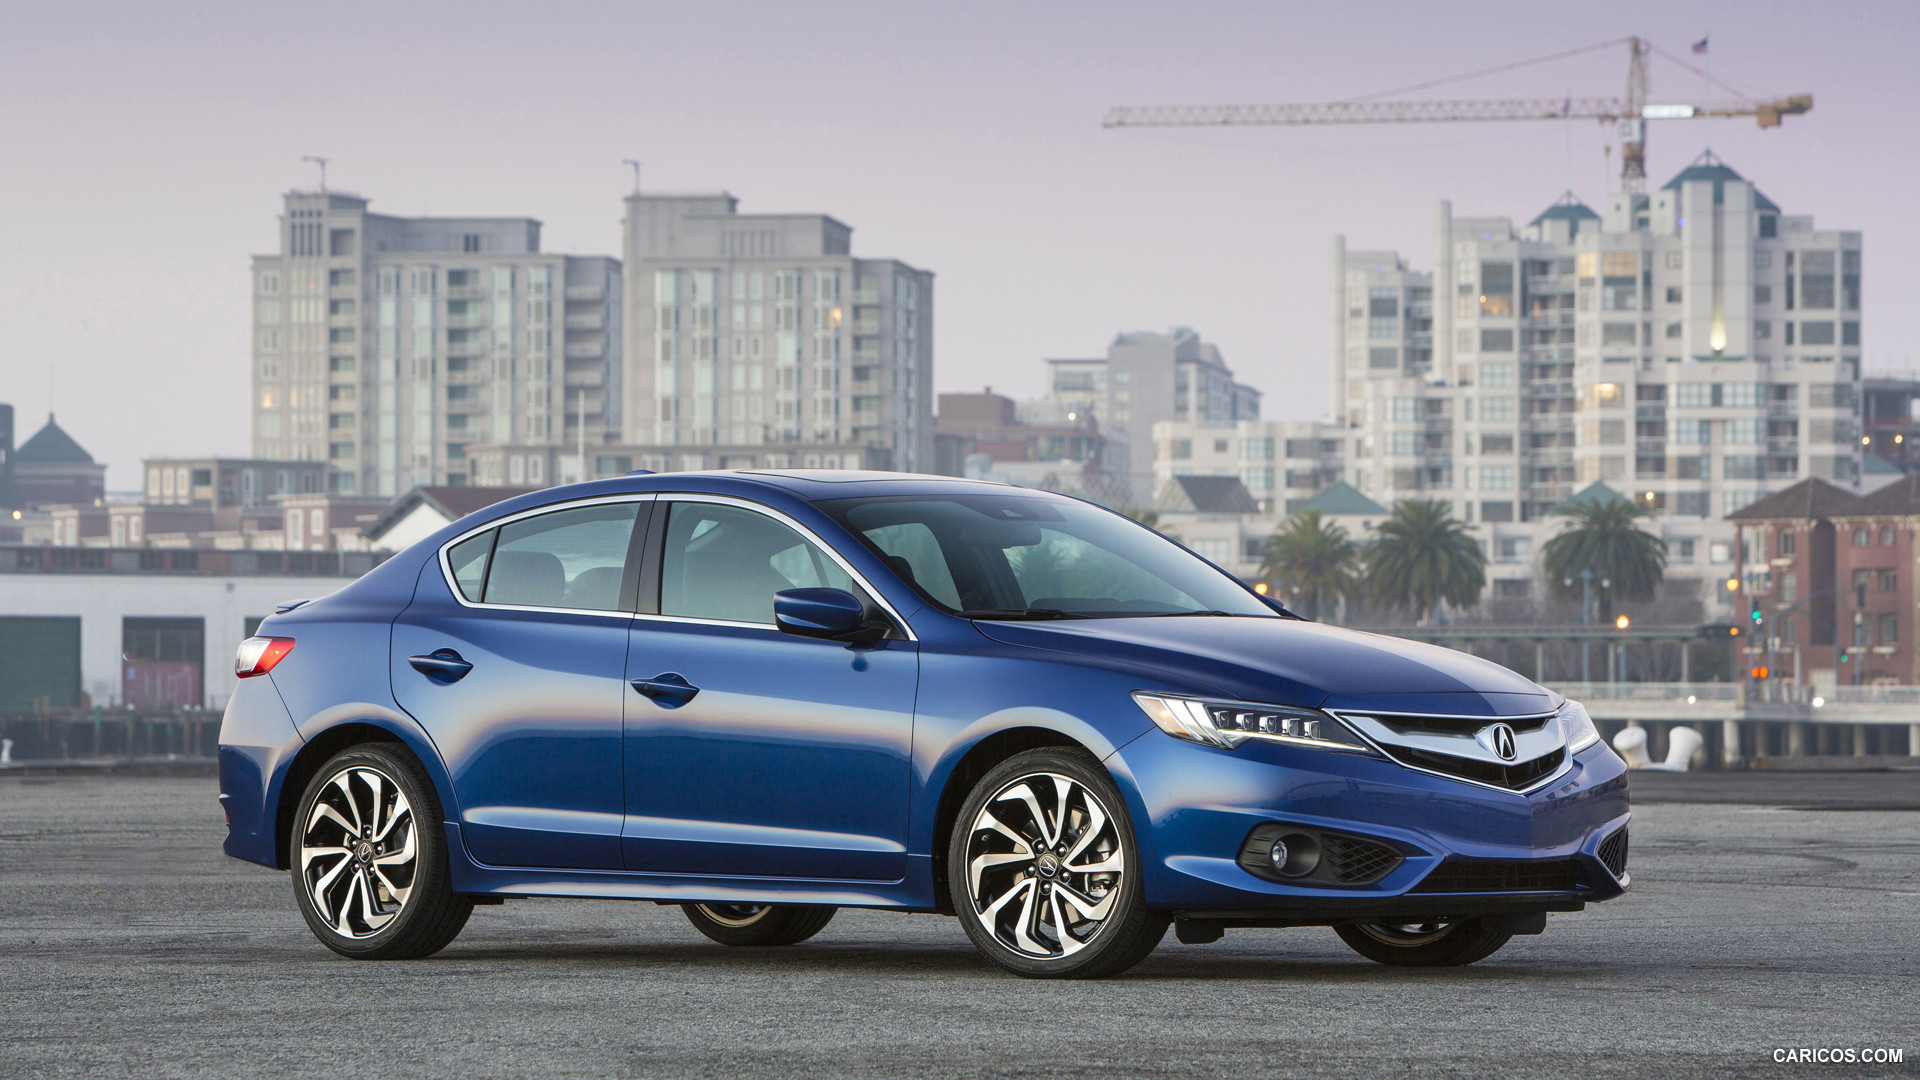Fog Lamp & Scope: (1234, 827, 1400, 889)
Front: (967, 624, 1629, 913)
Front Bumper: (1124, 789, 1633, 903)
Grill: (1338, 707, 1575, 795)
Headlight: (1134, 694, 1370, 760)
